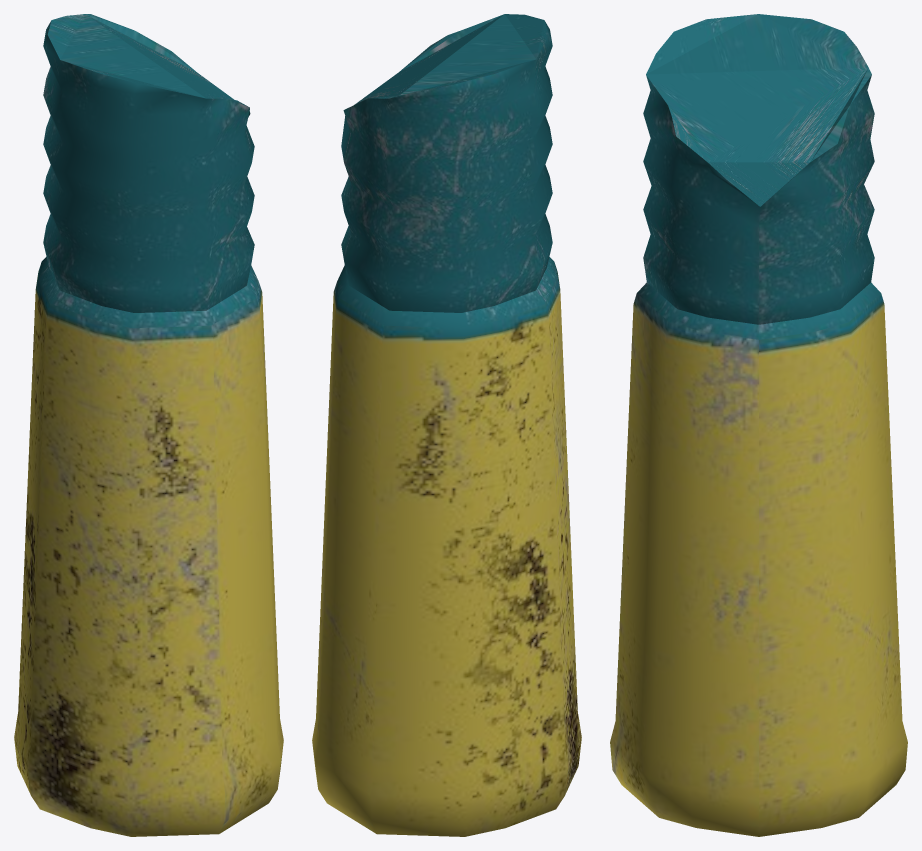
File: Foot_Left.FBX
The picture shows the model from 3 angles, left to right: view 1: azimuth 30°, elevation 25°; view 2: azimuth 150°, elevation 25°; view 3: azimuth 270°, elevation 25°; orthographic projection. The views are drawn at different scales.
Parts seen in each view (by area): view 1: Foot_Left; view 2: Foot_Left; view 3: Foot_Left.
Boxes of the visible parts, <box> form: Foot_Left: <box>14,14,283,836</box>; Foot_Left: <box>312,14,581,836</box>; Foot_Left: <box>610,14,907,836</box>.
Bounding box in the file's own units: 20.05 × 59.09 × 21.86.
1 material, 1 textured.
